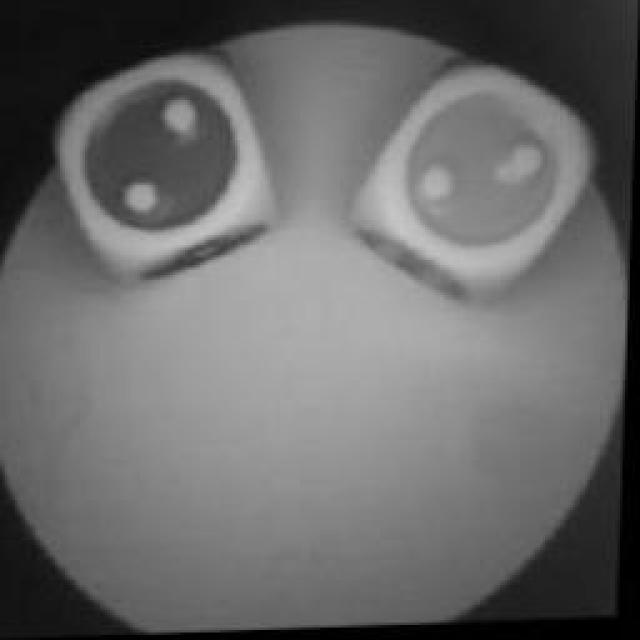dice_2: (366, 54, 612, 298), (61, 48, 289, 268)
